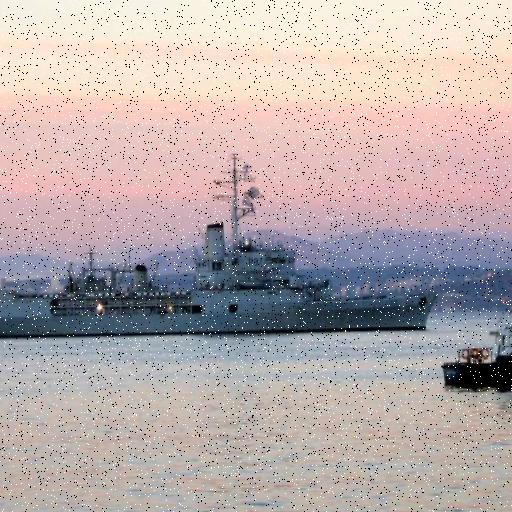Portanaves: (1, 149, 444, 347)
